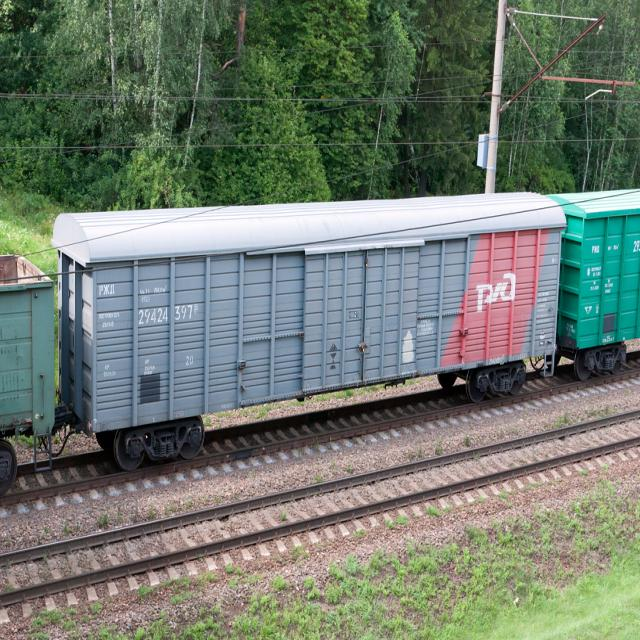boxcar: (61, 171, 566, 471), (562, 170, 640, 378)
gondola: (0, 241, 59, 487)
